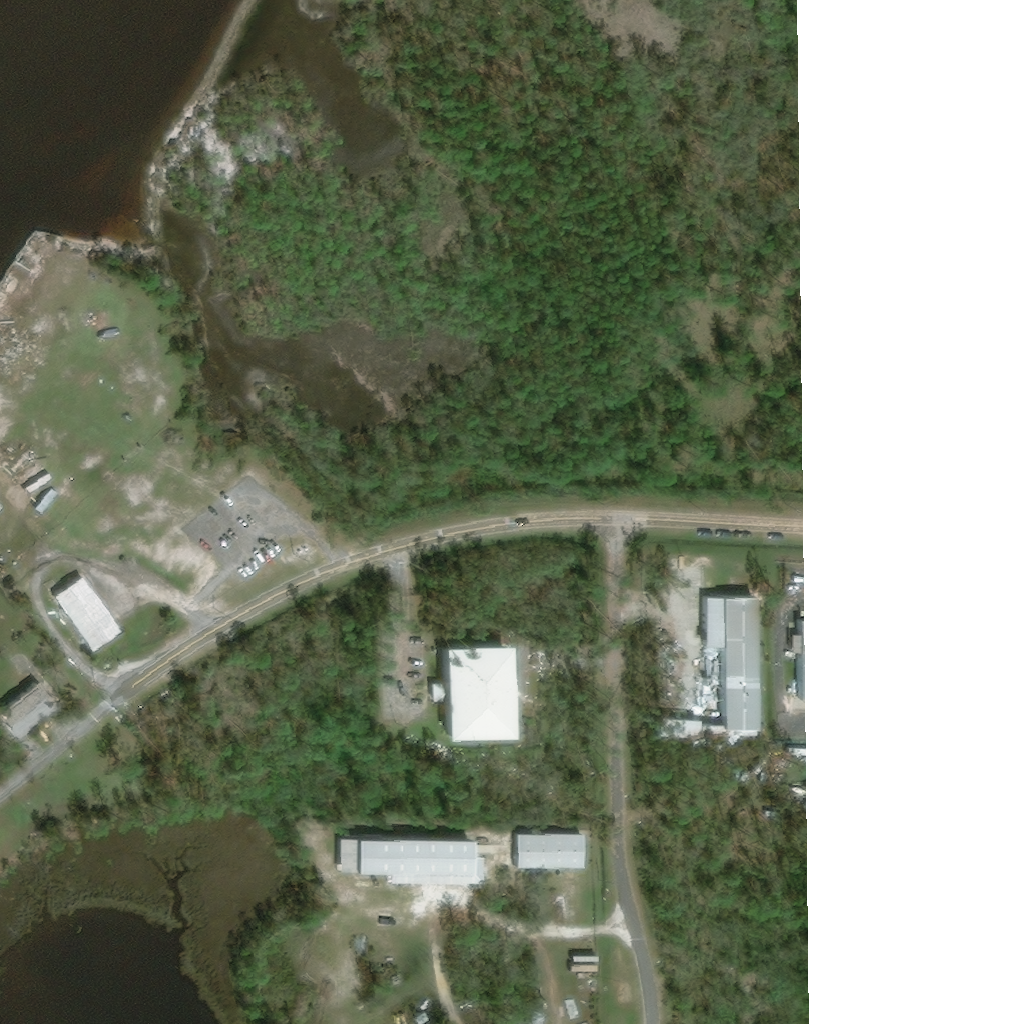minor_damage: (0, 676, 60, 739)
no_damage: (443, 640, 519, 737), (338, 836, 483, 883), (51, 573, 124, 654), (30, 487, 59, 513), (10, 450, 40, 475)
